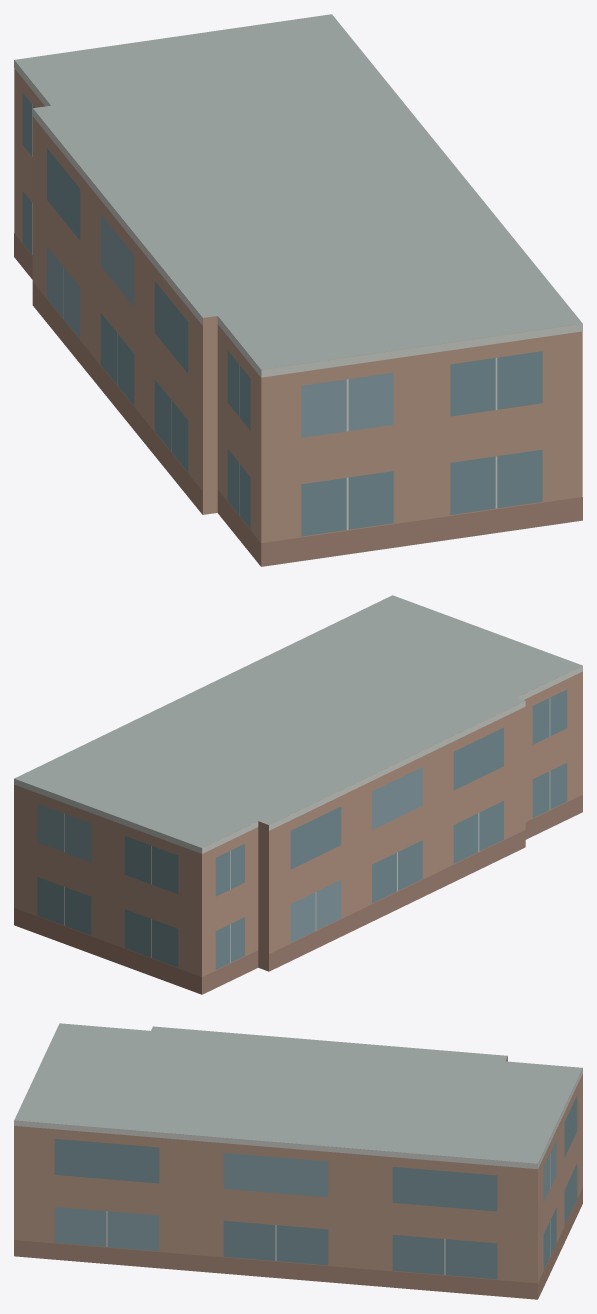
File: survey-upis-32704041.glb
The picture shows the model from 3 angles, top to bottom: view 1: azimuth 30°, elevation 25°; view 2: azimuth 150°, elevation 25°; view 3: azimuth 270°, elevation 25°; orthographic projection. The views are drawn at different scales.
Parts seen in each view (by area): view 1: survey-upis-32704041.tmp; view 2: survey-upis-32704041.tmp; view 3: survey-upis-32704041.tmp.
Part boxes in pixels (left/top/right/bottom): survey-upis-32704041.tmp: left=14, top=14, right=582, bottom=566; survey-upis-32704041.tmp: left=14, top=595, right=582, bottom=994; survey-upis-32704041.tmp: left=14, top=1023, right=582, bottom=1299.
Bounding box in the file's own units: 13.54 × 6.1 × 23.15.
